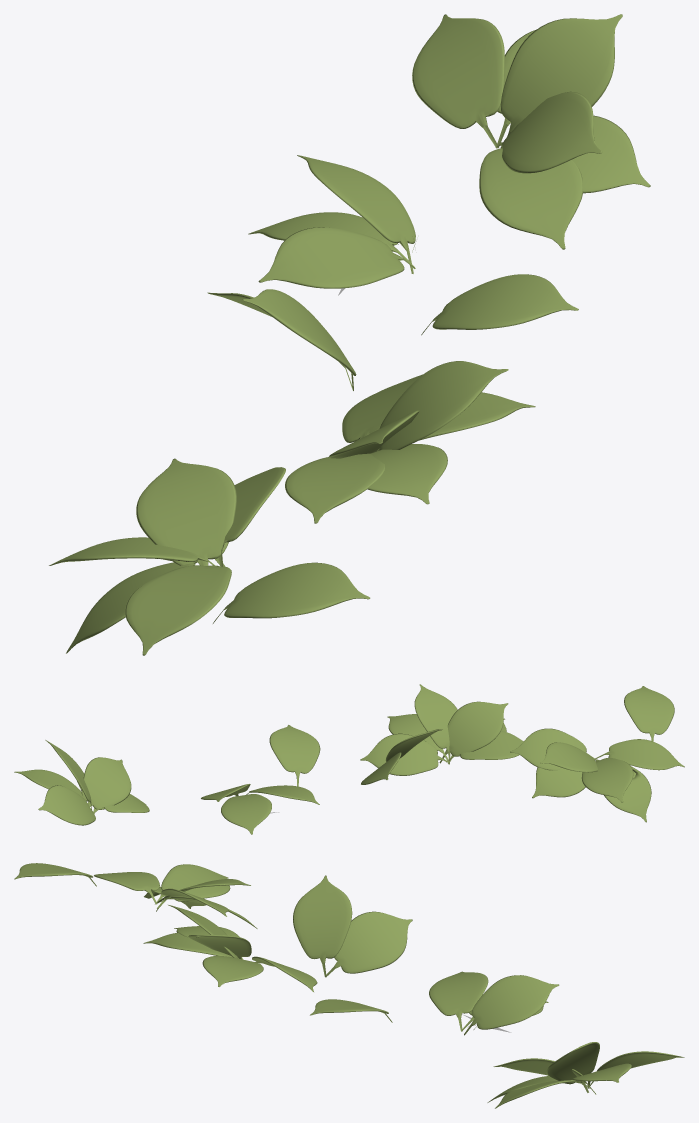
Rendered from complete cluster.fbx.
3 renders of one model, top to bottom at view 1: azimuth 30°, elevation 25°; view 2: azimuth 150°, elevation 25°; view 3: azimuth 270°, elevation 25°, orthographic. The views are drawn at different scales.
Visible parts, largest first — view 1: pCube16, pCube15, pCube14, polySurface6, polySurface12, polySurface17, polySurface14; view 2: pCube15, pCube14, pCube16, polySurface6, polySurface12, polySurface17, polySurface14, polySurface16; view 3: polySurface6, pCube14, pCube16, polySurface14, pCube15, polySurface16, polySurface12, polySurface17.
Part boxes in pixels (bbox=[...]): pCube16: bbox=[412, 14, 650, 249]; pCube15: bbox=[49, 458, 285, 655]; pCube14: bbox=[285, 361, 535, 523]; polySurface6: bbox=[248, 155, 415, 288]; polySurface12: bbox=[421, 274, 578, 335]; polySurface17: bbox=[213, 562, 370, 623]; polySurface14: bbox=[242, 289, 356, 390]; pCube15: bbox=[510, 728, 684, 822]; pCube14: bbox=[360, 684, 523, 775]; pCube16: bbox=[14, 740, 149, 825]; polySurface6: bbox=[201, 784, 319, 834]; polySurface12: bbox=[269, 725, 320, 786]; polySurface17: bbox=[624, 686, 674, 741]; polySurface14: bbox=[385, 729, 442, 761]; polySurface16: bbox=[361, 752, 401, 784]; polySurface6: bbox=[429, 971, 559, 1035]; pCube14: bbox=[143, 905, 317, 991]; pCube16: bbox=[487, 1042, 684, 1108]; polySurface14: bbox=[293, 875, 352, 976]; pCube15: bbox=[94, 864, 257, 928]; polySurface16: bbox=[325, 911, 412, 977]; polySurface12: bbox=[310, 999, 392, 1022]; polySurface17: bbox=[14, 863, 96, 886].
Bounding box in the file's own units: 28.41 × 5.98 × 30.95.
